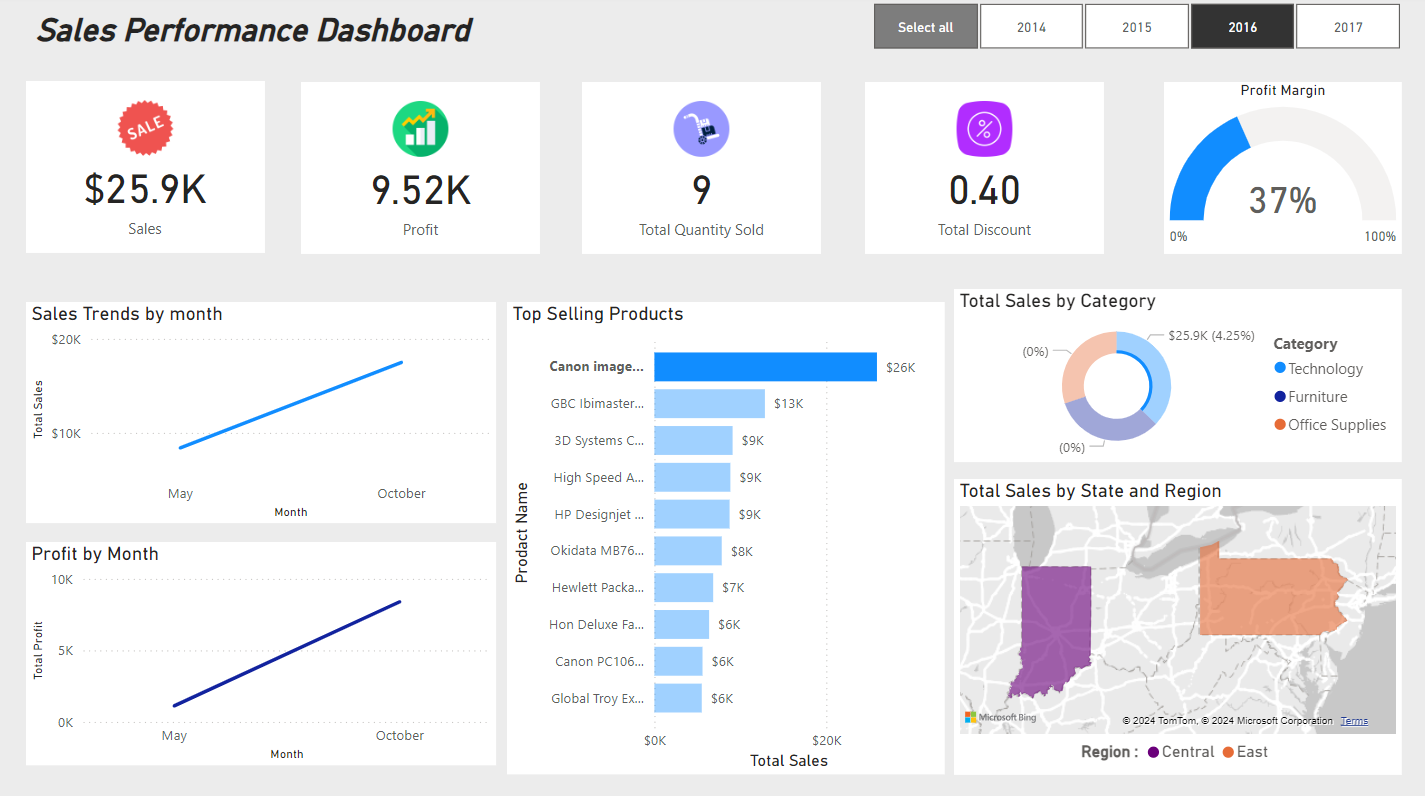

This screenshot's page, from the dashboard's own definition file:
{"tool":"powerbi","page":{"name":"Page 1","canvas":[1280,720],"ordinal":0},"visuals":[{"type":"textbox","box":[0,0,777.3,60.9],"z":0},{"type":"slicer","title":"Filter by Date","fields":{"Values":["SellesSuperStore.Order_Date.Variation.Date Hierarchy.Year"]},"box":[759,0,521,54.4],"z":1000},{"type":"cardVisual","fields":{"Data":["SellesSuperStore.Total Profit"]},"box":[272,77,214,154],"z":3000},{"type":"cardVisual","fields":{"Data":["SellesSuperStore.Total Quantity Sold"]},"box":[524,77,214,154],"z":4000},{"type":"cardVisual","fields":{"Data":["SellesSuperStore.Total Discount"]},"box":[777,77,214,154],"z":5000},{"type":"gauge","fields":{"Y":["SellesSuperStore.Profit Margin"]},"box":[1045,77,213,154],"z":6000},{"type":"clusteredBarChart","title":"Top Selling Products","fields":{"Y":["SellesSuperStore.Total Sales"],"Category":["SellesSuperStore.Product_Name"]},"box":[456.5,273.9,391.9,423.3],"z":7000},{"type":"lineChart","title":"Sales Trends by month","fields":{"Category":["SellesSuperStore.Order_Date.Variation.Date Hierarchy.Month"],"Y":["SellesSuperStore.Total Sales"]},"box":[25.8,273.9,420.5,198.3],"z":8000},{"type":"filledMap","fields":{"Category":["SellesSuperStore.State"],"Series":["SellesSuperStore.Region"]},"box":[857,432.2,400.9,264.8],"z":9000},{"type":"donutChart","fields":{"Y":["SellesSuperStore.Total Sales"],"Category":["SellesSuperStore.Category"]},"box":[856.7,262.8,401.2,154.9],"z":10000},{"type":"lineChart","title":"Profit by Month","fields":{"Category":["SellesSuperStore.Order_Date.Variation.Date Hierarchy.Month"],"Y":["SellesSuperStore.Total Profit"]},"box":[25.8,488.8,420.5,200.1],"z":11000},{"type":"cardVisual","fields":{"Data":["SellesSuperStore.Total Sales"]},"box":[25.8,76.5,213.9,154],"z":11001}]}

Visuals, with their boxes in screenshot pixels (x1, y1, x2, y2), scaled from the page's 1280x720 canvas onto the 1425x796 screenshot:
textbox: select_region(0, 0, 865, 67)
"Filter by Date" slicer: select_region(845, 0, 1424, 60)
cardVisual - SellesSuperStore.Total Profit: select_region(303, 85, 541, 255)
cardVisual - SellesSuperStore.Total Quantity Sold: select_region(583, 85, 822, 255)
cardVisual - SellesSuperStore.Total Discount: select_region(865, 85, 1103, 255)
gauge - SellesSuperStore.Profit Margin: select_region(1163, 85, 1401, 255)
"Top Selling Products" clusteredBarChart: select_region(508, 303, 945, 771)
"Sales Trends by month" lineChart: select_region(29, 303, 497, 522)
filledMap - SellesSuperStore.State x SellesSuperStore.Region: select_region(954, 478, 1400, 771)
donutChart - SellesSuperStore.Total Sales x SellesSuperStore.Category: select_region(954, 291, 1400, 462)
"Profit by Month" lineChart: select_region(29, 540, 497, 762)
cardVisual - SellesSuperStore.Total Sales: select_region(29, 85, 267, 255)
